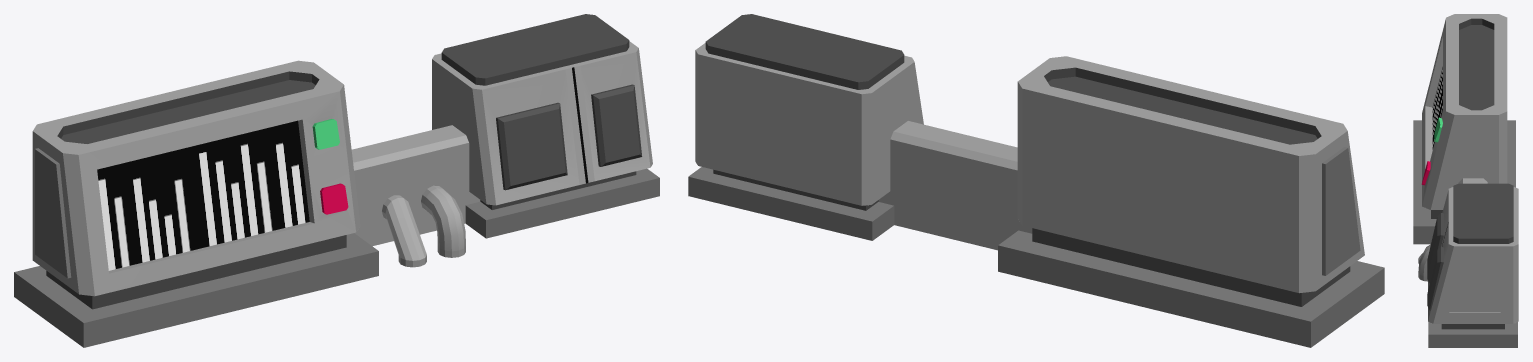
The model's file is machine deco 1.fbx.
3 views of the same model, side by side, from view 1: azimuth 30°, elevation 25°; view 2: azimuth 150°, elevation 25°; view 3: azimuth 270°, elevation 25° (orthographic). The views are drawn at different scales.
Parts seen in each view (by area): view 1: machine_deco_1; view 2: machine_deco_1; view 3: machine_deco_1.
Part boxes in pixels (x1,y1,x2,y2): machine_deco_1: [14, 14, 659, 347]; machine_deco_1: [688, 14, 1384, 347]; machine_deco_1: [1413, 14, 1518, 347].
Size of the model in its own units: 4.74 by 1.36 by 0.9997.
Materials: 7 (1 with a texture image).
